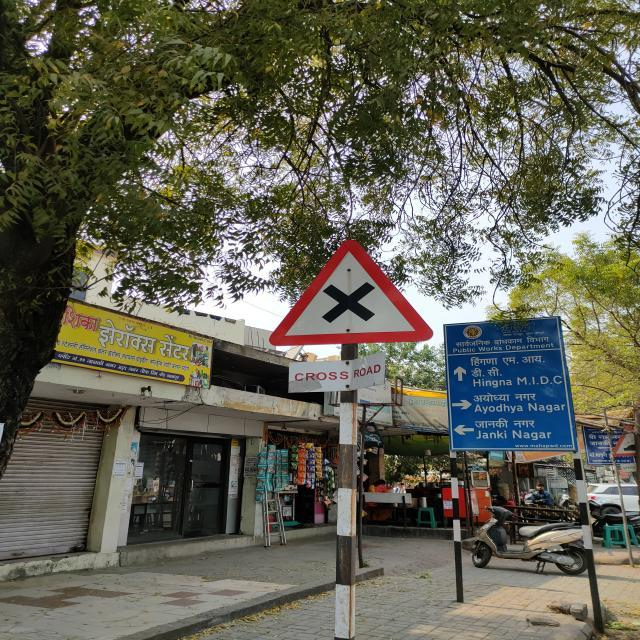cross road: (266, 236, 437, 349)
